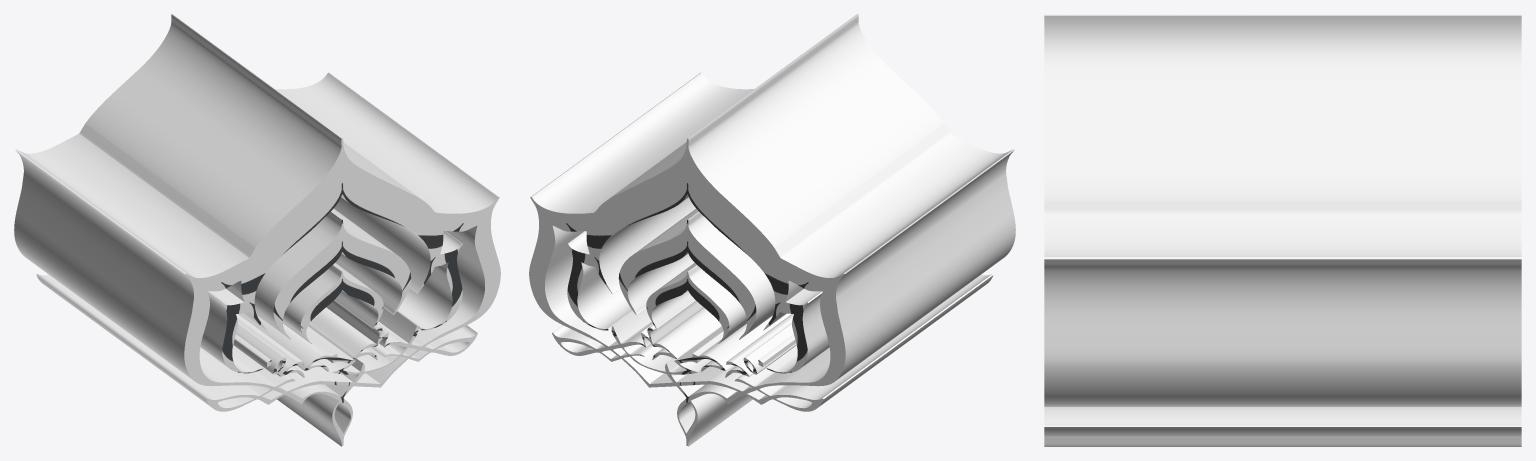
File: timg(noise_scale)(Level1)(x2.000000).dae
3 views of the same model, side by side, from view 1: azimuth 30°, elevation 25°; view 2: azimuth 150°, elevation 25°; view 3: azimuth 270°, elevation 25° (orthographic). The views are drawn at different scales.
Visible parts, largest first — view 1: 图层_2; view 2: 图层_2; view 3: 图层_2.
Part boxes in pixels (bbox=[...]): 图层_2: bbox=[14, 14, 500, 446]; 图层_2: bbox=[529, 14, 1015, 446]; 图层_2: bbox=[1044, 14, 1521, 446].
Bounding box in the file's own units: 55.68 × 51.86 × 51.86.
Materials: 3 (3 with a texture image).
